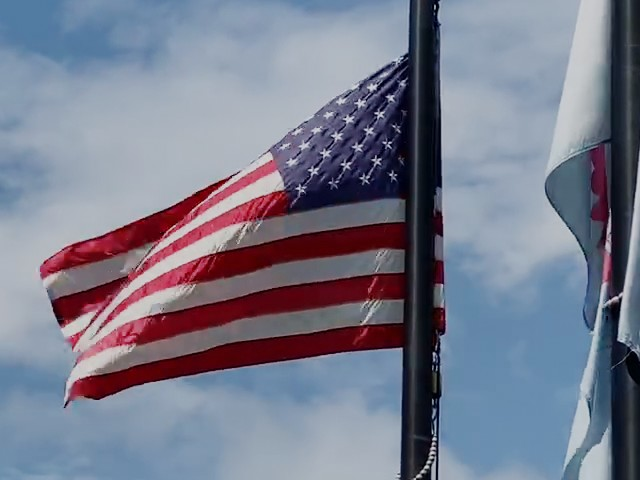America flag: (38, 53, 408, 414)
